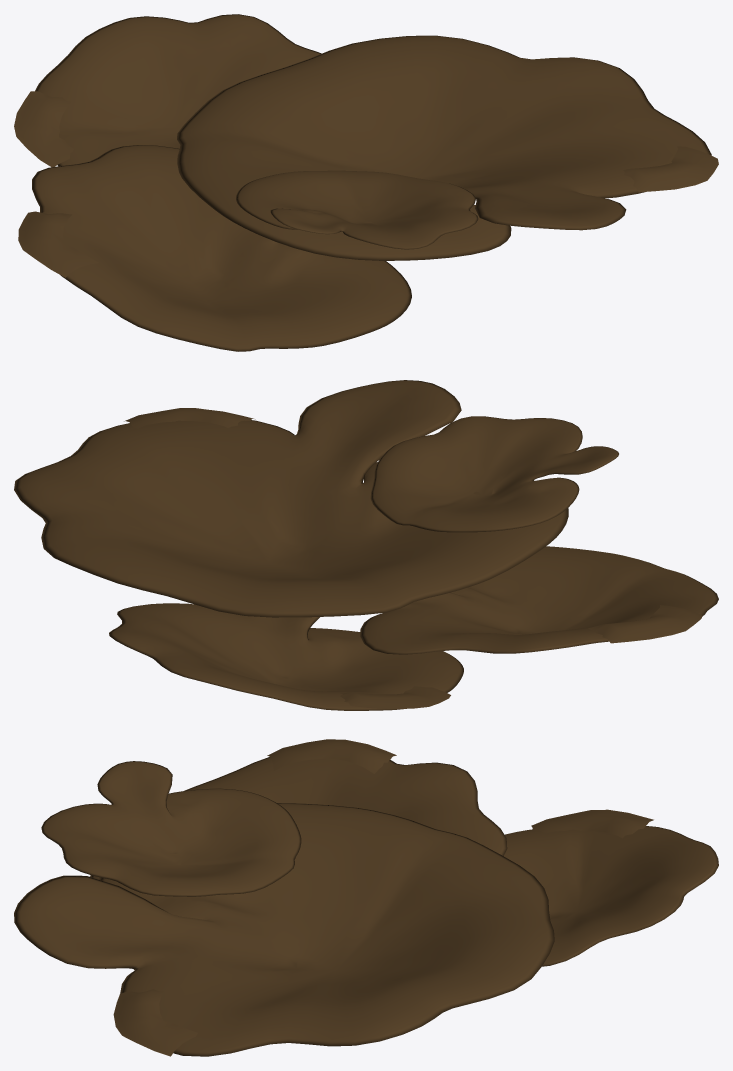
Rendered from SM_Coral_Plate_Montipora_02.dae.
3 views of the same model, one above another, from view 1: azimuth 30°, elevation 25°; view 2: azimuth 150°, elevation 25°; view 3: azimuth 270°, elevation 25° (orthographic). The views are drawn at different scales.
Visible parts, largest first — view 1: SM_Coral_Plate_Montipora_02_LOD0; view 2: SM_Coral_Plate_Montipora_02_LOD0; view 3: SM_Coral_Plate_Montipora_02_LOD0.
Part boxes in pixels (x1=…): SM_Coral_Plate_Montipora_02_LOD0: x1=14, y1=14, x2=718, y2=351; SM_Coral_Plate_Montipora_02_LOD0: x1=14, y1=380, x2=718, y2=710; SM_Coral_Plate_Montipora_02_LOD0: x1=14, y1=739, x2=718, y2=1056.
Size of what is drawn, in the model's own units: 275 by 50.37 by 259.
